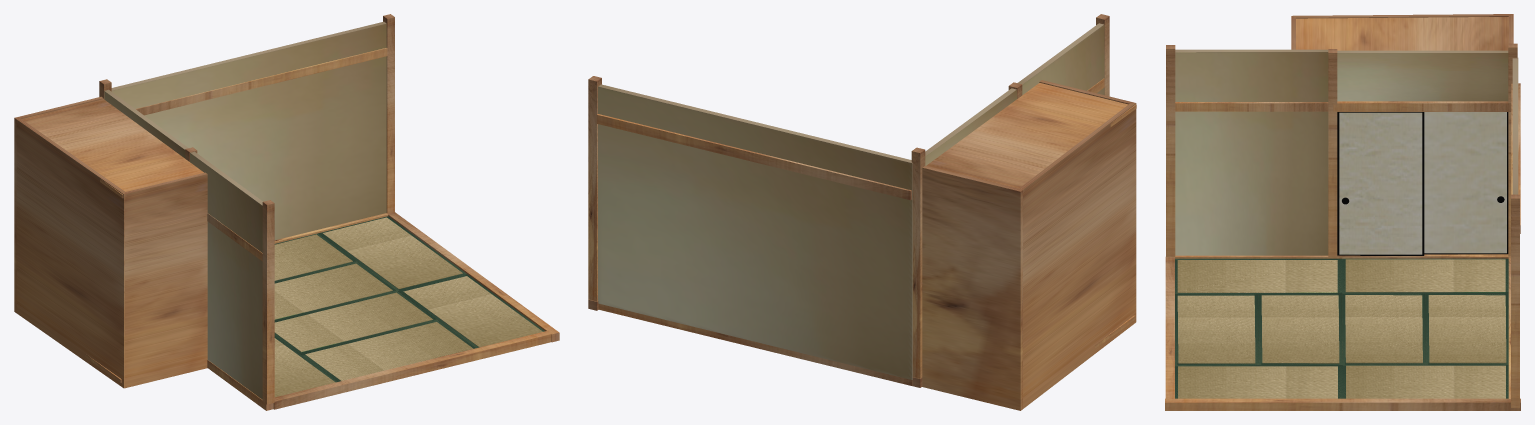
Rendered from washitsu02.glb.
3 renders of one model, left to right at view 1: azimuth 30°, elevation 25°; view 2: azimuth 150°, elevation 25°; view 3: azimuth 270°, elevation 25°, orthographic. The views are drawn at different scales.
Visible parts, largest first — view 1: mesh_id27.008, mesh_id27.017; view 2: mesh_id27.008; view 3: mesh_id27.008, node_id4, node_id4.001, node_id138.
Boxes of the visible parts, x1,y1,x2,y2 form: mesh_id27.008: (14, 14, 559, 410); mesh_id27.017: (124, 172, 207, 388); mesh_id27.008: (588, 14, 1136, 410); mesh_id27.008: (1165, 14, 1520, 410); node_id4: (1337, 112, 1424, 255); node_id4.001: (1424, 112, 1508, 254); node_id138: (1337, 254, 1510, 257).
Bounding box in the file's own units: 4.97 × 2.61 × 3.85.
82 materials, 82 textured.
